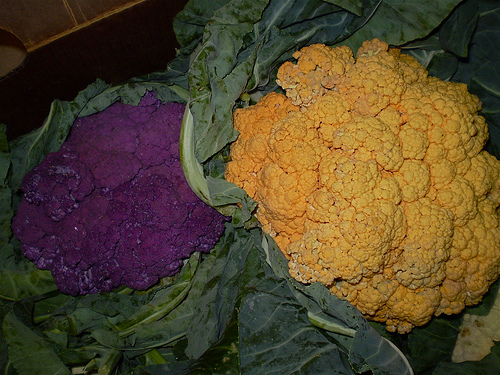cauliflower: (225, 37, 499, 336), (9, 76, 222, 341)
